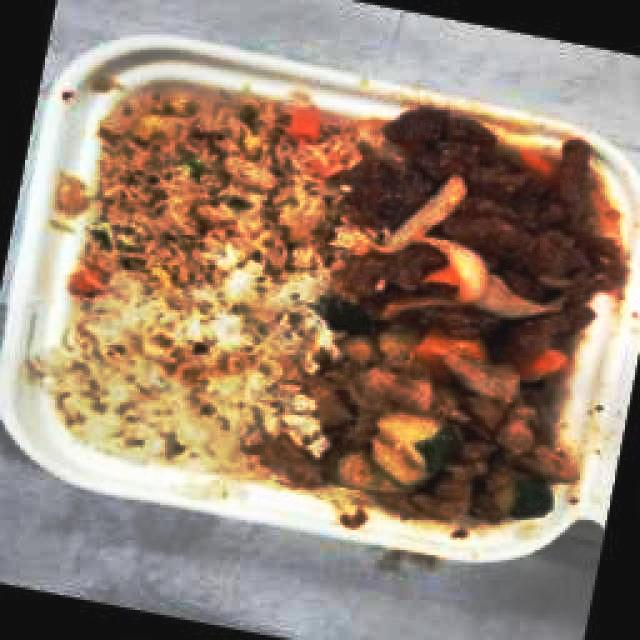Beijing Beef: (353, 108, 581, 355)
Fried Rice: (104, 107, 338, 250)
Kung Pao Chicken: (331, 288, 570, 517)
rice: (79, 236, 306, 470)
